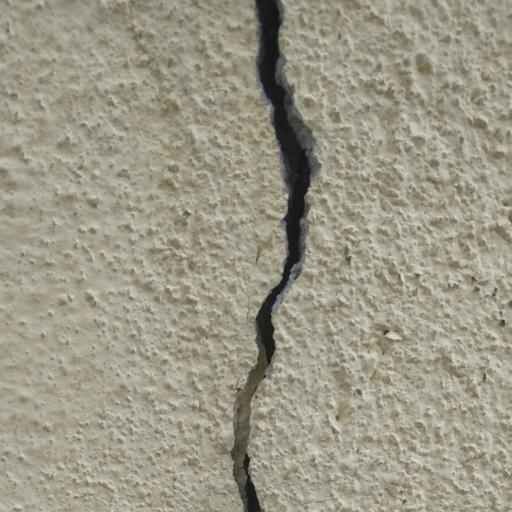major_crack: (224, 2, 332, 512)
